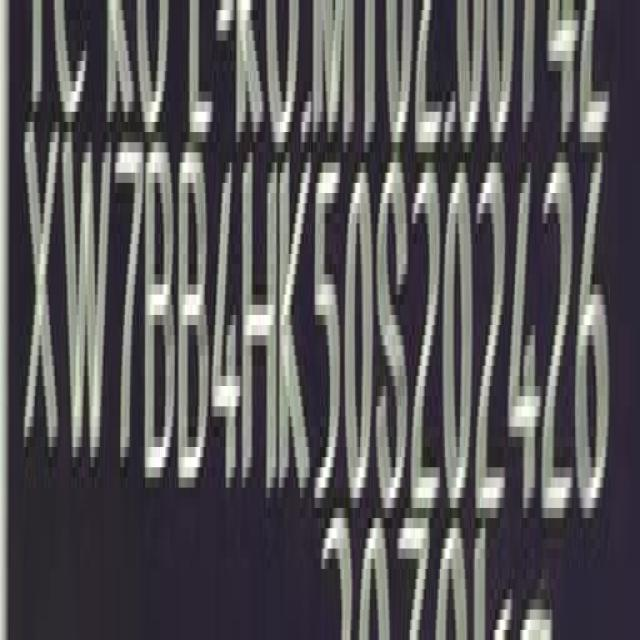0: (444, 164, 474, 516), (346, 164, 374, 508)
2: (545, 156, 575, 524), (475, 164, 505, 522), (412, 162, 441, 517)
4: (510, 159, 542, 523), (212, 166, 242, 501)
5: (312, 160, 342, 508)
6: (578, 136, 613, 518)
7: (112, 141, 147, 484)
B: (144, 151, 178, 491), (179, 151, 211, 497)
H: (245, 158, 278, 502)
K: (277, 143, 312, 515)
S: (376, 166, 410, 514)
W: (61, 124, 109, 476)
X: (21, 125, 62, 471)
